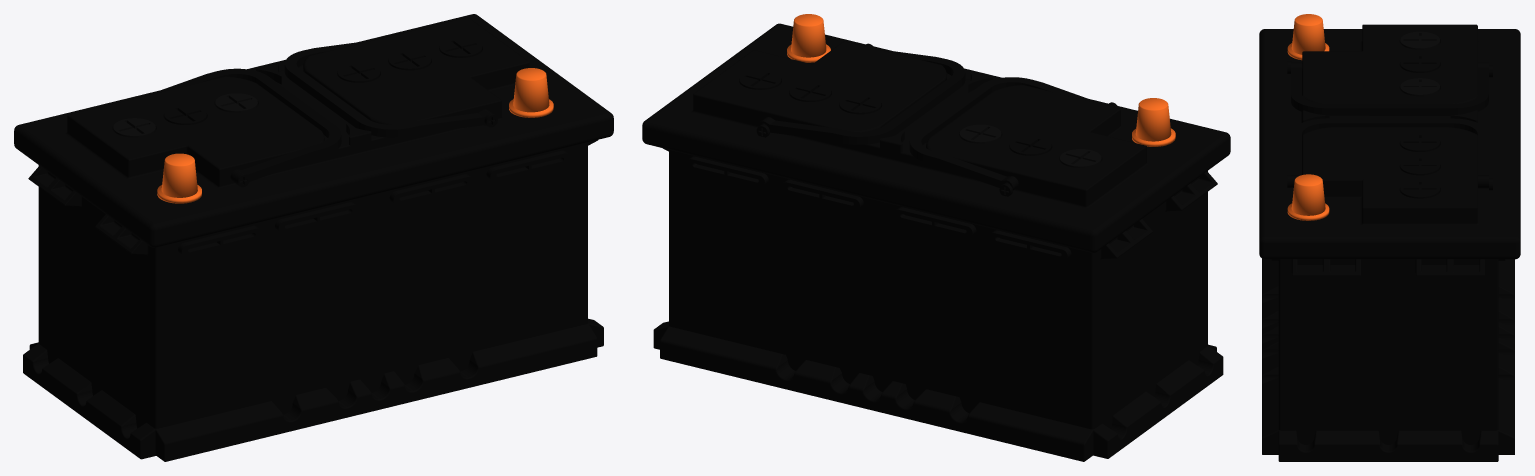
File: BatteryHomePage1 1.glb
The picture shows the model from 3 angles, left to right: view 1: azimuth 30°, elevation 25°; view 2: azimuth 150°, elevation 25°; view 3: azimuth 270°, elevation 25°; orthographic projection. The views are drawn at different scales.
Visible parts, largest first — view 1: BATTERY_SHELL.001, BATTERY_TOPCOVER.001, BATTERY_HANDLE.002, BATTERY_HANDLE.003, Cylinder.005, Cylinder.004, BATTERY_TAP.008, BATTERY_TAP.006, BATTERY_TAP.007, BATTERY_TAP.009, BATTERY_TAP.010, BATTERY_TAP.011; view 2: BATTERY_SHELL.001, BATTERY_TOPCOVER.001, BATTERY_HANDLE.002, BATTERY_HANDLE.003, Cylinder.005, Cylinder.004, BATTERY_TAP.008, BATTERY_TAP.010, BATTERY_TAP.009, BATTERY_TAP.006, BATTERY_TAP.007, BATTERY_TAP.011; view 3: BATTERY_SHELL.001, BATTERY_TOPCOVER.001, BATTERY_HANDLE.003, BATTERY_HANDLE.002, Cylinder.004, Cylinder.005, BATTERY_TAP.011, BATTERY_TAP.006, BATTERY_TAP.007, BATTERY_TAP.009, BATTERY_TAP.010, BATTERY_TAP.008.
Part boxes in pixels (x1,y1,x2,y2): BATTERY_SHELL.001: (23,140,603,461); BATTERY_TOPCOVER.001: (14,14,613,247); BATTERY_HANDLE.002: (284,36,492,137); BATTERY_HANDLE.003: (132,68,341,185); Cylinder.005: (157,153,201,203); Cylinder.004: (509,68,553,117); BATTERY_TAP.008: (337,63,380,82); BATTERY_TAP.006: (439,38,482,57); BATTERY_TAP.007: (388,51,431,70); BATTERY_TAP.009: (215,93,257,112); BATTERY_TAP.010: (164,105,206,124); BATTERY_TAP.011: (113,118,155,137); BATTERY_SHELL.001: (653,148,1223,461); BATTERY_TOPCOVER.001: (642,23,1230,252); BATTERY_HANDLE.002: (758,45,965,144); BATTERY_HANDLE.003: (909,77,1114,189); Cylinder.005: (1132,98,1175,146); Cylinder.004: (787,14,830,62); BATTERY_TAP.008: (839,95,881,114); BATTERY_TAP.010: (1009,136,1051,155); BATTERY_TAP.009: (959,124,1001,143); BATTERY_TAP.006: (739,70,781,89); BATTERY_TAP.007: (789,83,831,101); BATTERY_TAP.011: (1059,149,1101,167); BATTERY_SHELL.001: (1262,258,1514,461); BATTERY_TOPCOVER.001: (1259,24,1520,259); BATTERY_HANDLE.003: (1291,62,1488,115); BATTERY_HANDLE.002: (1291,118,1488,187); Cylinder.004: (1287,174,1329,220); Cylinder.005: (1287,14,1329,60); BATTERY_TAP.011: (1400,31,1439,49); BATTERY_TAP.006: (1400,180,1439,198); BATTERY_TAP.007: (1400,157,1439,175); BATTERY_TAP.009: (1400,78,1439,96); BATTERY_TAP.010: (1400,55,1439,72); BATTERY_TAP.008: (1400,134,1439,151).
Bounding box in the file's own units: 3.31 × 1.86 × 1.71.
